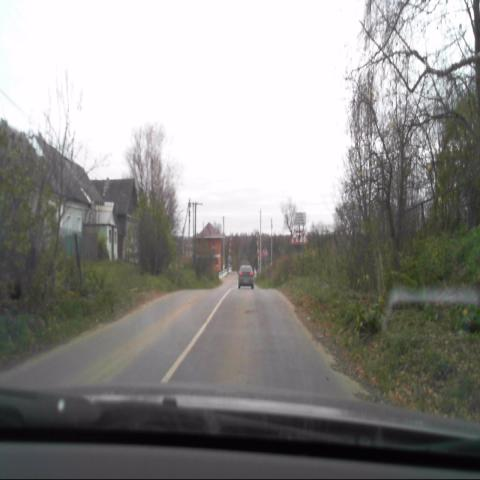1_1: (291, 229, 299, 243)
1_33: (300, 229, 308, 243)
